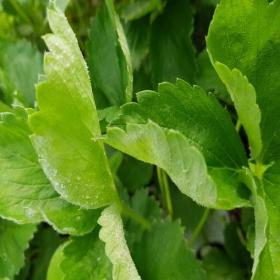Powdery Mildew Leaf: (93, 77, 258, 210), (28, 0, 122, 209), (0, 103, 108, 235), (58, 201, 141, 279), (240, 163, 279, 279)
